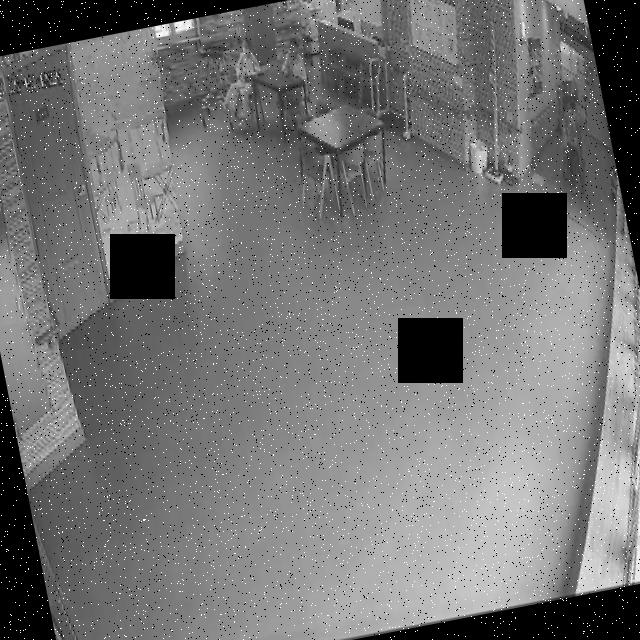patient: (208, 37, 274, 137), (274, 26, 314, 85)
sit: (210, 38, 272, 130)
